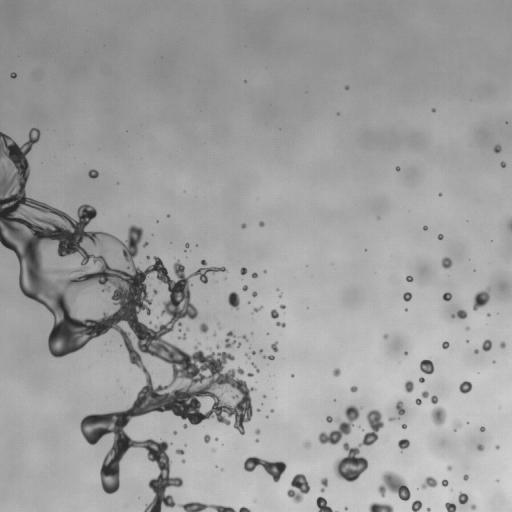droplet: (377, 471, 411, 501), (286, 473, 310, 503), (224, 330, 249, 349), (473, 287, 490, 310), (315, 496, 339, 511), (227, 290, 239, 310), (419, 359, 434, 374), (420, 476, 437, 489), (398, 438, 410, 453), (451, 309, 467, 319), (459, 381, 472, 393), (441, 256, 452, 269), (404, 380, 414, 393), (452, 418, 462, 431), (458, 491, 468, 504), (198, 322, 209, 333), (411, 500, 422, 511), (15, 135, 26, 146), (23, 186, 34, 197), (87, 197, 98, 208), (246, 218, 257, 229), (118, 230, 129, 241), (163, 259, 174, 270), (187, 276, 198, 287), (247, 278, 258, 289), (237, 291, 248, 302), (447, 300, 458, 311), (188, 317, 199, 328), (105, 327, 116, 338), (90, 335, 101, 346), (221, 361, 232, 372), (412, 382, 423, 393), (249, 395, 260, 406), (347, 395, 358, 406), (403, 398, 414, 409), (120, 399, 131, 410), (443, 411, 454, 422), (356, 414, 367, 425), (127, 415, 138, 426), (206, 415, 217, 426), (224, 423, 235, 434), (122, 424, 133, 435), (104, 432, 115, 443), (475, 432, 486, 443), (348, 435, 359, 446), (357, 446, 368, 457), (124, 447, 135, 458), (117, 457, 128, 468), (149, 466, 160, 477), (281, 470, 292, 481), (308, 479, 319, 490), (308, 487, 319, 498), (144, 489, 155, 500), (386, 490, 397, 501), (305, 491, 316, 502), (173, 493, 184, 504), (482, 339, 492, 351), (88, 169, 99, 178), (445, 502, 456, 511), (442, 292, 452, 301), (270, 309, 279, 319), (302, 439, 311, 449), (270, 341, 278, 352), (403, 292, 412, 301), (494, 152, 503, 161), (169, 273, 178, 282), (403, 282, 412, 291), (251, 297, 260, 306), (478, 304, 487, 313), (180, 315, 189, 324), (98, 332, 107, 341), (490, 341, 499, 350), (185, 346, 194, 355), (252, 353, 261, 362), (242, 363, 251, 372), (244, 377, 253, 386), (421, 397, 430, 406), (95, 406, 104, 415), (399, 414, 408, 423), (330, 421, 339, 430), (340, 433, 349, 442), (310, 436, 319, 445), (483, 442, 492, 451), (164, 446, 173, 455), (268, 454, 277, 463), (163, 486, 172, 495), (374, 495, 383, 504), (493, 144, 501, 153), (332, 368, 340, 377), (440, 478, 449, 486), (240, 266, 247, 276), (175, 448, 185, 455), (159, 505, 170, 511), (172, 505, 183, 511), (455, 505, 466, 511), (442, 340, 449, 349), (203, 434, 210, 443), (276, 321, 286, 327), (405, 275, 413, 282), (350, 385, 357, 393), (476, 444, 484, 451), (31, 142, 38, 149), (50, 201, 57, 208), (55, 203, 62, 210), (72, 214, 79, 221), (159, 215, 166, 222), (134, 221, 141, 228), (83, 225, 90, 232), (139, 235, 146, 242), (136, 241, 143, 248), (205, 260, 212, 267), (138, 264, 145, 271), (245, 268, 252, 275), (182, 269, 189, 276), (244, 271, 251, 278), (246, 286, 253, 293), (222, 294, 229, 301), (188, 296, 195, 303), (26, 297, 33, 304), (468, 297, 475, 304), (246, 304, 253, 311), (45, 325, 52, 332), (206, 327, 213, 334), (161, 333, 168, 340), (116, 335, 123, 342), (241, 341, 248, 348), (218, 345, 225, 352), (266, 348, 273, 355), (73, 349, 80, 356), (202, 349, 209, 356), (122, 350, 129, 357), (65, 352, 72, 359), (220, 367, 227, 374), (233, 372, 240, 379), (139, 379, 146, 386), (248, 391, 255, 398), (344, 400, 351, 407), (352, 401, 359, 408), (370, 403, 377, 410), (391, 408, 398, 415), (151, 409, 158, 416), (166, 409, 173, 416), (228, 415, 235, 422), (341, 415, 348, 422), (379, 415, 386, 422), (394, 419, 401, 426), (365, 425, 372, 432), (376, 428, 383, 435), (357, 432, 364, 439), (79, 436, 86, 443), (337, 438, 344, 445), (324, 441, 331, 448), (348, 441, 355, 448), (341, 450, 348, 457), (95, 462, 102, 469), (255, 464, 262, 471), (168, 470, 175, 477), (358, 472, 365, 479), (418, 476, 425, 483), (339, 477, 346, 484), (377, 478, 384, 485), (407, 496, 414, 503), (451, 497, 458, 504), (222, 500, 229, 507), (464, 500, 471, 507), (233, 504, 240, 511), (470, 503, 476, 511), (145, 254, 150, 263), (506, 159, 511, 168), (506, 340, 511, 349), (258, 221, 265, 227), (240, 222, 246, 229), (251, 272, 258, 278), (499, 341, 505, 348), (244, 352, 250, 359), (418, 377, 425, 383), (462, 474, 468, 481), (246, 372, 254, 377), (10, 72, 16, 78), (500, 161, 506, 167), (437, 234, 443, 240), (142, 241, 148, 247), (251, 291, 257, 297), (215, 343, 221, 349), (254, 428, 260, 434), (446, 465, 452, 471), (279, 304, 286, 309), (242, 285, 247, 291), (278, 292, 283, 298), (383, 333, 388, 339), (473, 349, 479, 354), (494, 444, 500, 449), (178, 507, 185, 511), (363, 507, 370, 511), (418, 507, 425, 511), (344, 85, 349, 90), (395, 166, 400, 171), (422, 225, 427, 230), (250, 350, 255, 355), (182, 424, 187, 429), (401, 424, 406, 429), (480, 426, 485, 431), (343, 80, 348, 85), (2, 129, 7, 134), (38, 135, 43, 140), (24, 136, 29, 141), (489, 144, 494, 149), (489, 148, 494, 153), (24, 153, 29, 158), (504, 160, 509, 165), (95, 166, 100, 171), (83, 170, 88, 175), (89, 177, 94, 182), (259, 216, 264, 221), (254, 219, 259, 224), (236, 222, 241, 227), (245, 222, 250, 227), (254, 223, 259, 228), (258, 226, 263, 231), (101, 227, 106, 232), (9, 249, 14, 254), (440, 253, 445, 258), (449, 255, 454, 260), (150, 259, 155, 264), (180, 260, 185, 265), (216, 262, 221, 267), (197, 263, 202, 268), (449, 264, 454, 269), (192, 266, 197, 271), (236, 267, 241, 272), (444, 267, 449, 272), (216, 270, 221, 275), (14, 271, 19, 276), (205, 271, 210, 276), (194, 274, 199, 279), (252, 277, 257, 282), (14, 279, 19, 284), (239, 281, 244, 286), (401, 288, 406, 293), (18, 291, 23, 296), (256, 291, 261, 296), (438, 291, 443, 296), (248, 295, 253, 300), (398, 295, 403, 300), (279, 299, 284, 304), (441, 299, 446, 304), (403, 300, 408, 305), (37, 302, 42, 307), (276, 307, 281, 312), (257, 309, 262, 314), (452, 309, 457, 314), (46, 310, 51, 315), (266, 313, 271, 318), (454, 315, 459, 320), (178, 317, 183, 322), (272, 317, 277, 322), (380, 329, 385, 334), (177, 331, 182, 336), (185, 331, 190, 336), (200, 331, 205, 336), (245, 333, 250, 338), (484, 334, 489, 339), (386, 336, 391, 341), (499, 336, 504, 341), (239, 337, 244, 342), (220, 340, 225, 345), (275, 343, 280, 348), (504, 343, 509, 348), (121, 344, 126, 349), (477, 345, 482, 350), (446, 346, 451, 351), (254, 347, 259, 352), (213, 348, 218, 353), (224, 348, 229, 353), (486, 349, 491, 354), (46, 351, 51, 356), (423, 355, 428, 360), (264, 357, 269, 362), (432, 362, 437, 367), (131, 363, 136, 368), (333, 363, 338, 368), (329, 366, 334, 371), (243, 368, 248, 373), (250, 368, 255, 373), (432, 368, 437, 373), (328, 369, 333, 374), (339, 369, 344, 374), (421, 372, 426, 377), (337, 373, 342, 378), (404, 376, 409, 381), (465, 376, 470, 381), (458, 378, 463, 383), (349, 381, 354, 386), (470, 381, 475, 386), (246, 383, 251, 388), (400, 385, 405, 390), (454, 385, 459, 390), (470, 385, 475, 390), (455, 388, 460, 393), (351, 391, 356, 396), (458, 391, 463, 396), (465, 391, 470, 396), (417, 394, 422, 399), (260, 397, 265, 402), (420, 397, 425, 402), (391, 401, 396, 406), (401, 404, 406, 409), (251, 407, 256, 412), (268, 412, 273, 417), (176, 415, 181, 420), (184, 418, 189, 423), (201, 418, 206, 423), (219, 421, 224, 426), (461, 421, 466, 426), (75, 422, 80, 427), (233, 428, 238, 433), (253, 433, 258, 438), (400, 434, 405, 439), (209, 436, 214, 441), (199, 437, 204, 442), (165, 438, 170, 443), (478, 439, 483, 444), (373, 440, 378, 445), (393, 440, 398, 445), (408, 441, 413, 446), (178, 444, 183, 449), (472, 446, 477, 451), (402, 447, 407, 452), (143, 448, 148, 453), (475, 449, 480, 454), (249, 452, 254, 457), (177, 453, 182, 458), (241, 456, 246, 461), (366, 459, 371, 464), (152, 460, 157, 465), (447, 460, 452, 465), (239, 462, 244, 467), (451, 465, 456, 470), (242, 469, 247, 474), (296, 469, 301, 474), (245, 470, 250, 475), (320, 473, 325, 478), (458, 473, 463, 478), (267, 474, 272, 479), (305, 476, 310, 481), (145, 477, 150, 482), (353, 478, 358, 483), (96, 479, 101, 484), (181, 480, 186, 485), (326, 480, 331, 485), (347, 480, 352, 485), (436, 480, 441, 485), (118, 481, 123, 486), (97, 483, 102, 488), (318, 483, 323, 488), (446, 483, 451, 488), (117, 485, 122, 490), (407, 485, 412, 490), (426, 485, 431, 490), (99, 488, 104, 493), (282, 490, 287, 495), (111, 491, 116, 496), (319, 492, 324, 497), (191, 497, 196, 502), (182, 499, 187, 504), (200, 499, 205, 504), (311, 499, 316, 504), (325, 501, 330, 506), (244, 503, 249, 508), (212, 331, 216, 337), (0, 242, 3, 249), (431, 108, 436, 112), (464, 326, 469, 330), (255, 408, 260, 412), (173, 430, 177, 435), (254, 438, 259, 442), (344, 506, 348, 511), (438, 192, 442, 196), (263, 269, 267, 273), (223, 276, 227, 280), (465, 339, 469, 343), (290, 373, 294, 377), (262, 394, 266, 398), (270, 408, 274, 412), (214, 437, 218, 441), (211, 448, 215, 452), (181, 459, 185, 463), (426, 507, 430, 511), (486, 313, 491, 316), (149, 320, 152, 325), (508, 120, 511, 125), (211, 508, 216, 511), (442, 508, 447, 511), (472, 508, 477, 511), (243, 80, 247, 83), (166, 214, 170, 217), (250, 331, 253, 335), (404, 351, 407, 355), (333, 398, 336, 402), (220, 467, 223, 471), (495, 479, 499, 482), (336, 112, 339, 115), (505, 121, 508, 124), (377, 216, 380, 219), (364, 248, 367, 251), (276, 288, 279, 291), (247, 301, 250, 304), (404, 308, 407, 311), (266, 332, 269, 335), (492, 360, 495, 363), (265, 415, 268, 418), (466, 421, 469, 424), (357, 425, 360, 428), (361, 428, 364, 431), (9, 69, 12, 72), (14, 70, 17, 73), (14, 76, 17, 79), (243, 76, 246, 79), (10, 77, 13, 80), (240, 79, 243, 82), (348, 86, 351, 89), (345, 89, 348, 92), (433, 105, 436, 108), (428, 108, 431, 111), (435, 108, 438, 111), (333, 111, 336, 114), (339, 111, 342, 114), (431, 111, 434, 114), (336, 115, 339, 118), (504, 123, 507, 126), (34, 125, 37, 128), (26, 129, 29, 132), (39, 129, 42, 132), (498, 165, 501, 168), (503, 166, 506, 169), (399, 167, 402, 170), (393, 169, 396, 172), (441, 192, 444, 195), (435, 193, 438, 196), (439, 195, 442, 198), (167, 211, 170, 214), (163, 213, 166, 216), (155, 216, 158, 219), (168, 216, 171, 219), (153, 219, 156, 222), (158, 219, 161, 222), (240, 220, 243, 223), (423, 222, 426, 225), (420, 224, 423, 227), (243, 227, 246, 230), (420, 228, 423, 231), (424, 229, 427, 232), (440, 231, 443, 234), (111, 232, 114, 235), (435, 232, 438, 235), (489, 236, 492, 239), (438, 239, 441, 242), (182, 241, 185, 244), (197, 243, 200, 246), (145, 244, 148, 247), (188, 244, 191, 247), (183, 246, 186, 249), (195, 246, 198, 249), (361, 248, 364, 251), (180, 249, 183, 252), (366, 249, 369, 252), (199, 257, 202, 260), (173, 259, 176, 262), (242, 264, 245, 267), (224, 265, 227, 268), (262, 266, 265, 269), (469, 268, 472, 271), (266, 269, 269, 272), (255, 270, 258, 273), (472, 271, 475, 274), (406, 272, 409, 275), (410, 273, 413, 276), (412, 276, 415, 279), (200, 281, 203, 284), (407, 281, 410, 284), (277, 285, 280, 288), (407, 289, 410, 292), (277, 290, 280, 293), (410, 292, 413, 295), (281, 293, 284, 296), (409, 298, 412, 301), (449, 298, 452, 301), (407, 307, 410, 310), (401, 308, 404, 311), (486, 316, 489, 319), (219, 323, 222, 326), (284, 323, 287, 326), (225, 329, 228, 332), (263, 330, 266, 333), (268, 330, 271, 333), (252, 333, 255, 336), (466, 336, 469, 339), (442, 338, 445, 341), (462, 339, 465, 342), (468, 339, 471, 342), (271, 340, 274, 343), (439, 341, 442, 344), (448, 342, 451, 345), (465, 342, 468, 345), (239, 345, 242, 348), (404, 348, 407, 351), (442, 348, 445, 351), (407, 351, 410, 354), (248, 352, 251, 355), (401, 352, 404, 355), (474, 353, 477, 356), (404, 354, 407, 357), (244, 355, 247, 358), (493, 357, 496, 360), (268, 359, 271, 362), (489, 359, 492, 362), (253, 361, 256, 364), (417, 361, 420, 364), (493, 362, 496, 365), (239, 365, 242, 368), (256, 365, 259, 368), (259, 368, 262, 371), (293, 372, 296, 375), (287, 373, 290, 376), (291, 376, 294, 379), (422, 381, 425, 384), (347, 387, 350, 390), (264, 392, 267, 395), (332, 395, 335, 398), (335, 398, 338, 401), (412, 400, 415, 403), (332, 401, 335, 404), (414, 403, 417, 406), (273, 409, 276, 412), (403, 411, 406, 414), (323, 415, 326, 418), (264, 417, 267, 420), (466, 418, 469, 421), (324, 420, 327, 423), (400, 421, 403, 424), (404, 421, 407, 424), (465, 423, 468, 426), (481, 423, 484, 426), (398, 425, 401, 428), (406, 425, 409, 428), (477, 425, 480, 428), (456, 428, 459, 431), (259, 430, 262, 433), (453, 431, 456, 434), (480, 431, 483, 434), (243, 432, 246, 435), (223, 442, 226, 445), (255, 442, 258, 445), (498, 443, 501, 446), (498, 447, 501, 450), (494, 448, 497, 451), (184, 460, 187, 463), (217, 466, 220, 469), (465, 471, 468, 474), (444, 476, 447, 479), (496, 476, 499, 479), (466, 478, 469, 481), (447, 479, 450, 482), (498, 480, 501, 483), (494, 481, 497, 484), (441, 485, 444, 488), (461, 490, 464, 493), (456, 492, 459, 495), (419, 499, 422, 502), (346, 505, 349, 508), (184, 443, 186, 447), (116, 182, 119, 184), (151, 233, 153, 236), (195, 244, 198, 246), (305, 265, 308, 267), (283, 311, 285, 314), (123, 390, 125, 393), (261, 402, 263, 405), (215, 465, 218, 467), (450, 488, 452, 491), (342, 509, 345, 511), (345, 509, 348, 511), (429, 509, 432, 511), (156, 220, 158, 222), (185, 256, 187, 258), (473, 269, 475, 271), (306, 307, 308, 309), (221, 443, 223, 445), (267, 363, 268, 365), (126, 130, 127, 131), (466, 220, 467, 221), (469, 259, 470, 260), (417, 488, 418, 489), (138, 497, 139, 498)
ligament: (332, 408, 384, 482), (318, 405, 362, 445), (414, 390, 447, 426), (243, 456, 286, 482), (388, 400, 405, 421), (368, 502, 393, 511), (258, 348, 274, 361), (177, 327, 190, 340), (320, 477, 328, 492), (251, 305, 263, 314), (251, 362, 259, 373), (184, 242, 189, 252), (507, 219, 511, 231), (216, 322, 222, 330), (249, 345, 251, 349)
